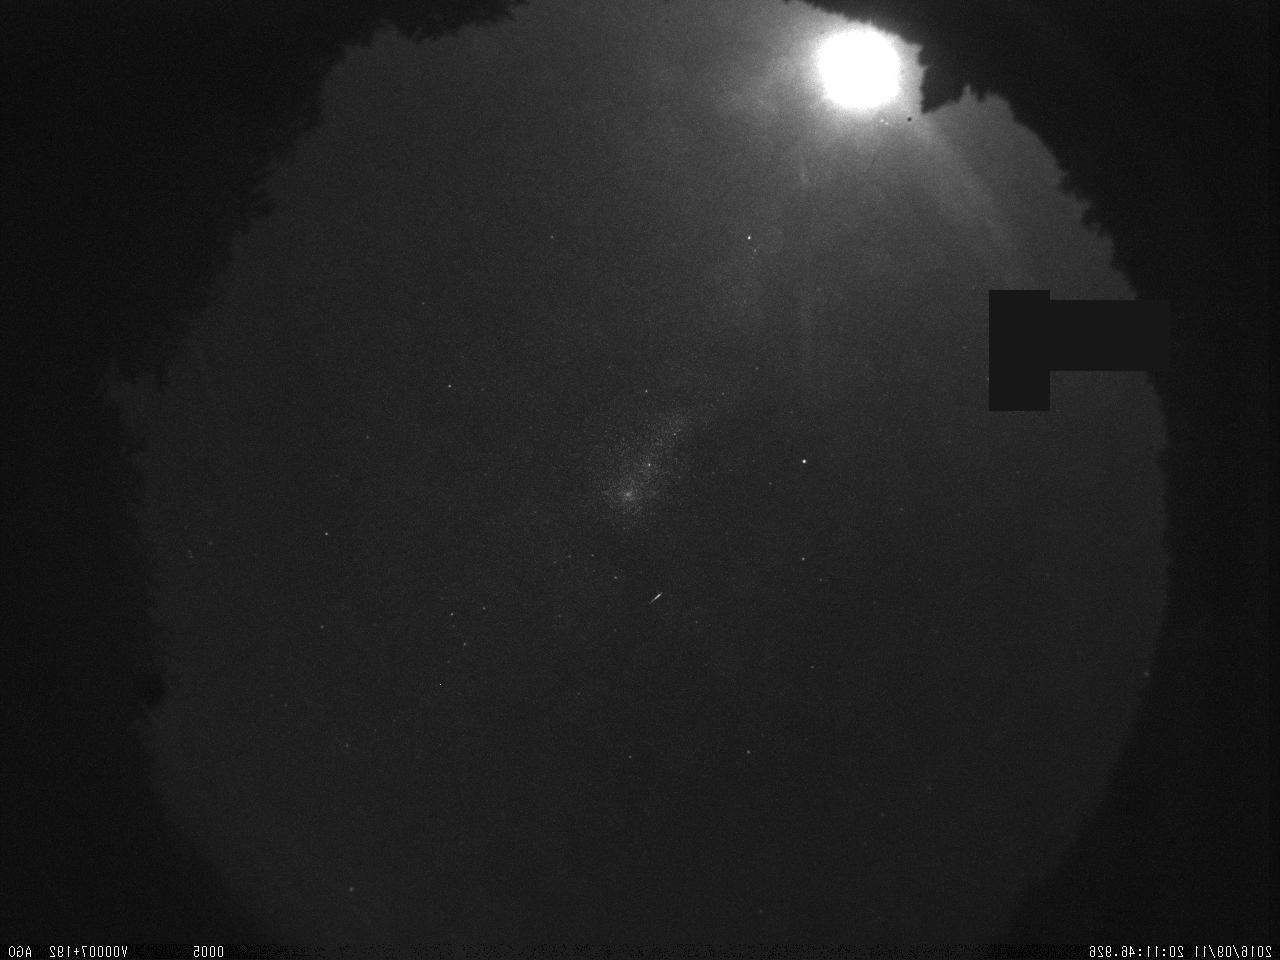meteor: (644, 580, 669, 614)
